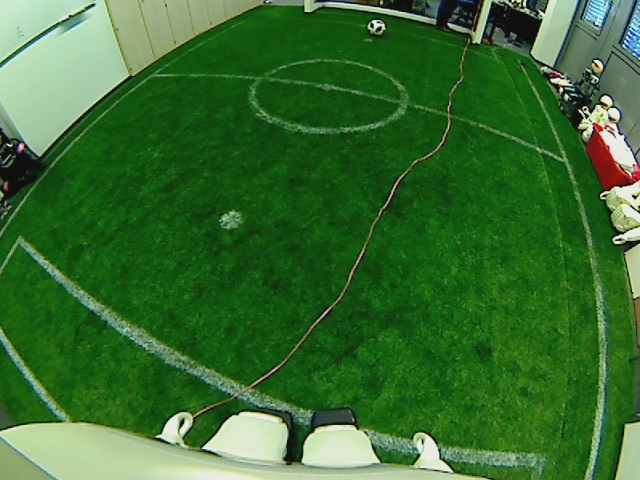ball: (367, 18, 386, 37)
